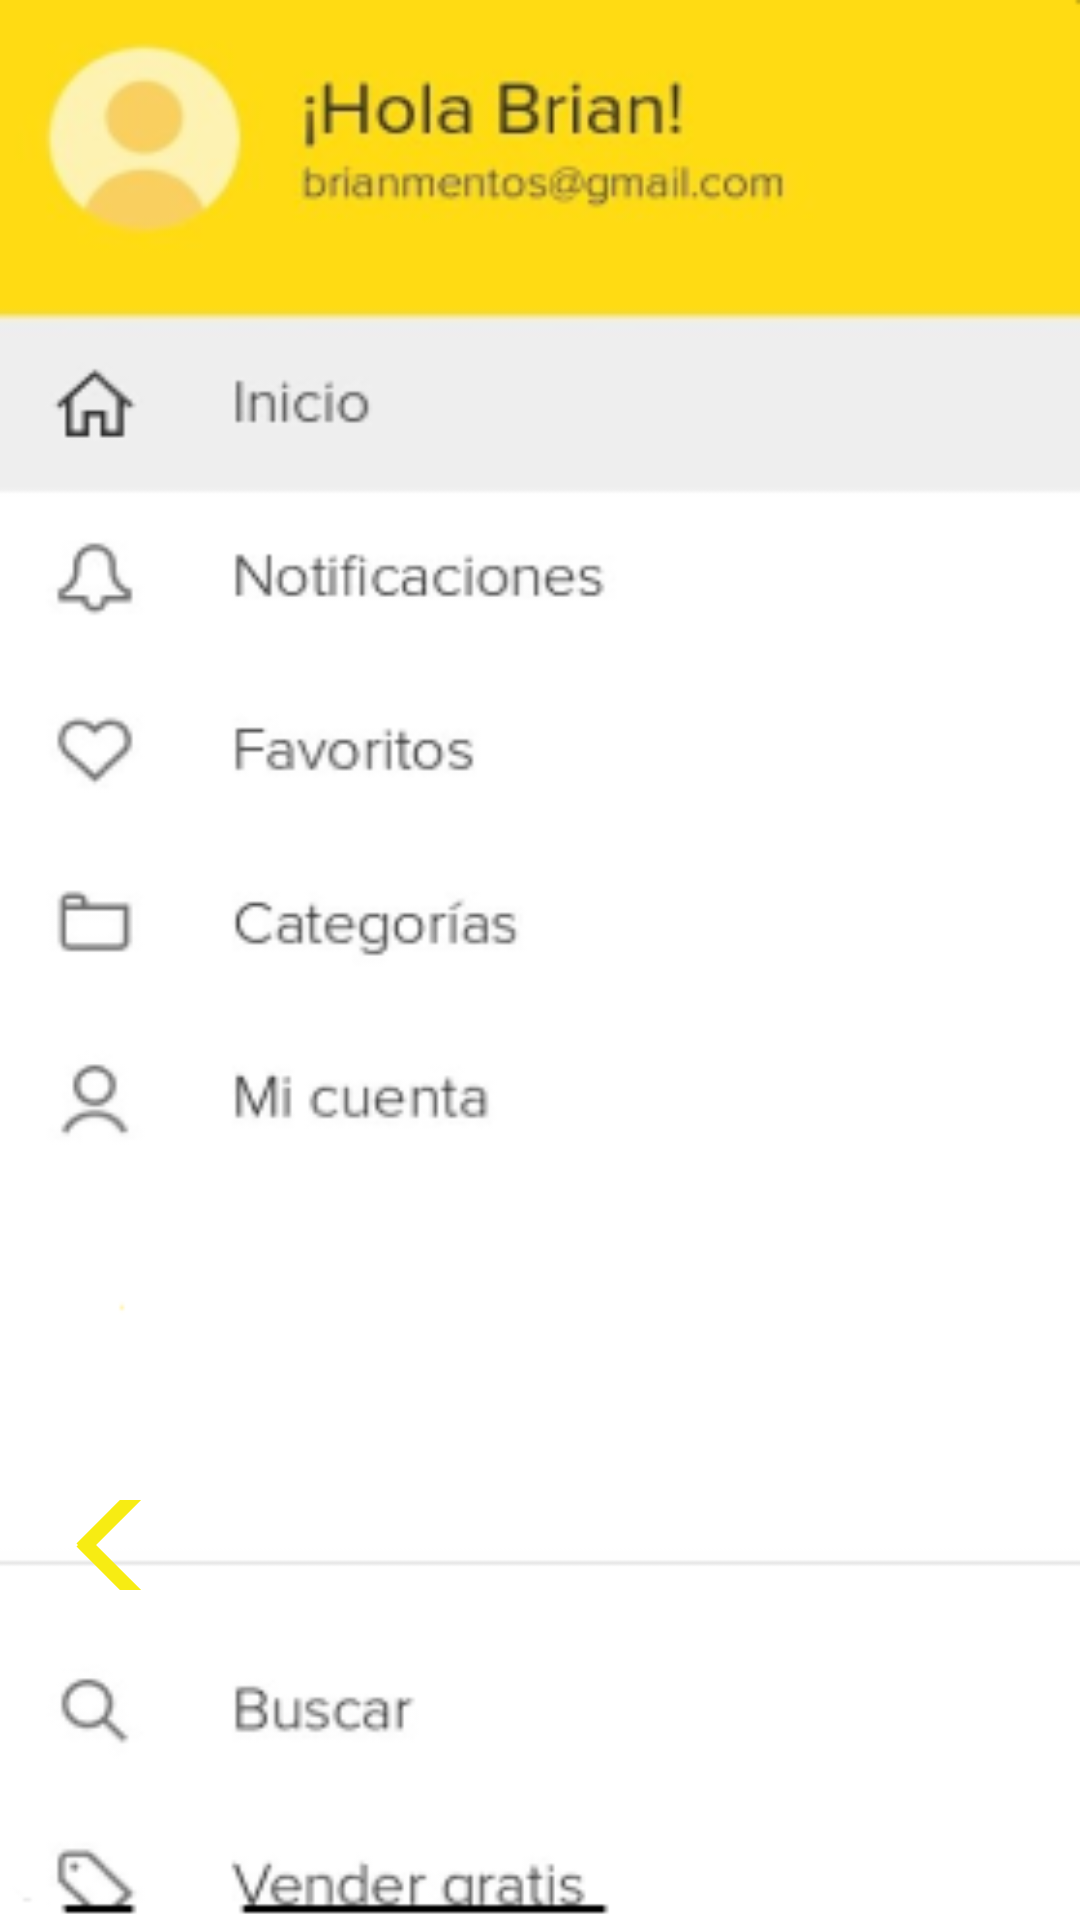

Icon bounding boxes for this 1080*1920 phone screenshot, format (left=x1, top=y1, right=x2, bottom=y2):
flecha: (left=76, top=1500, right=141, bottom=1590)
